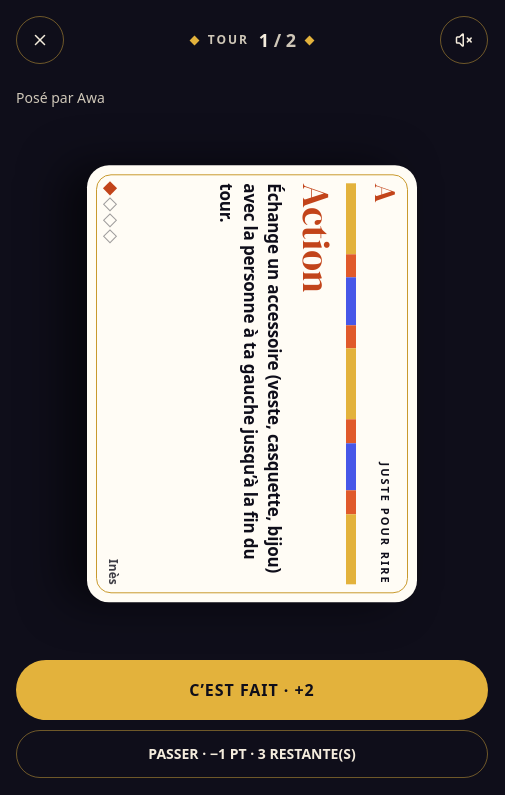
completing a challenge scores and returns to the bottle
The image size is (505, 795).
What coordinates should you click on to do the following:
click the button "C’est fait · +2"
I would click on:
 (252, 690)
Its box is 16,660 -> 488,720.
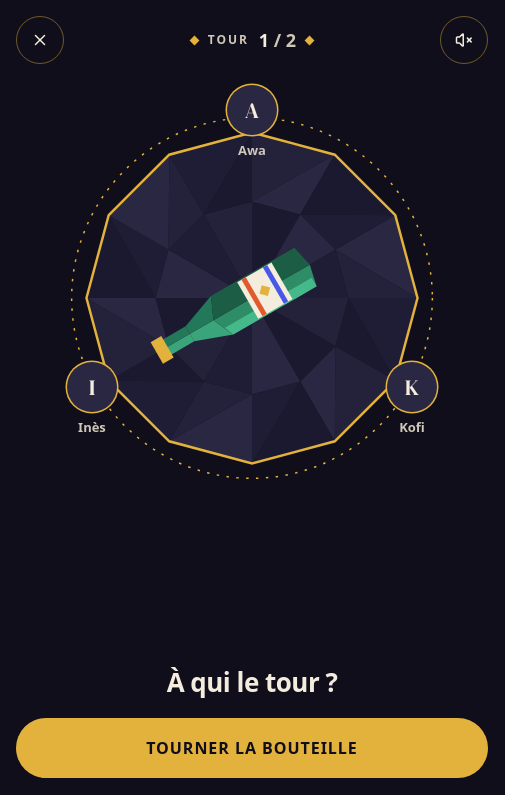
expect the button "Tourner la bouteille" is shown: met, box 16,718 -> 488,778
